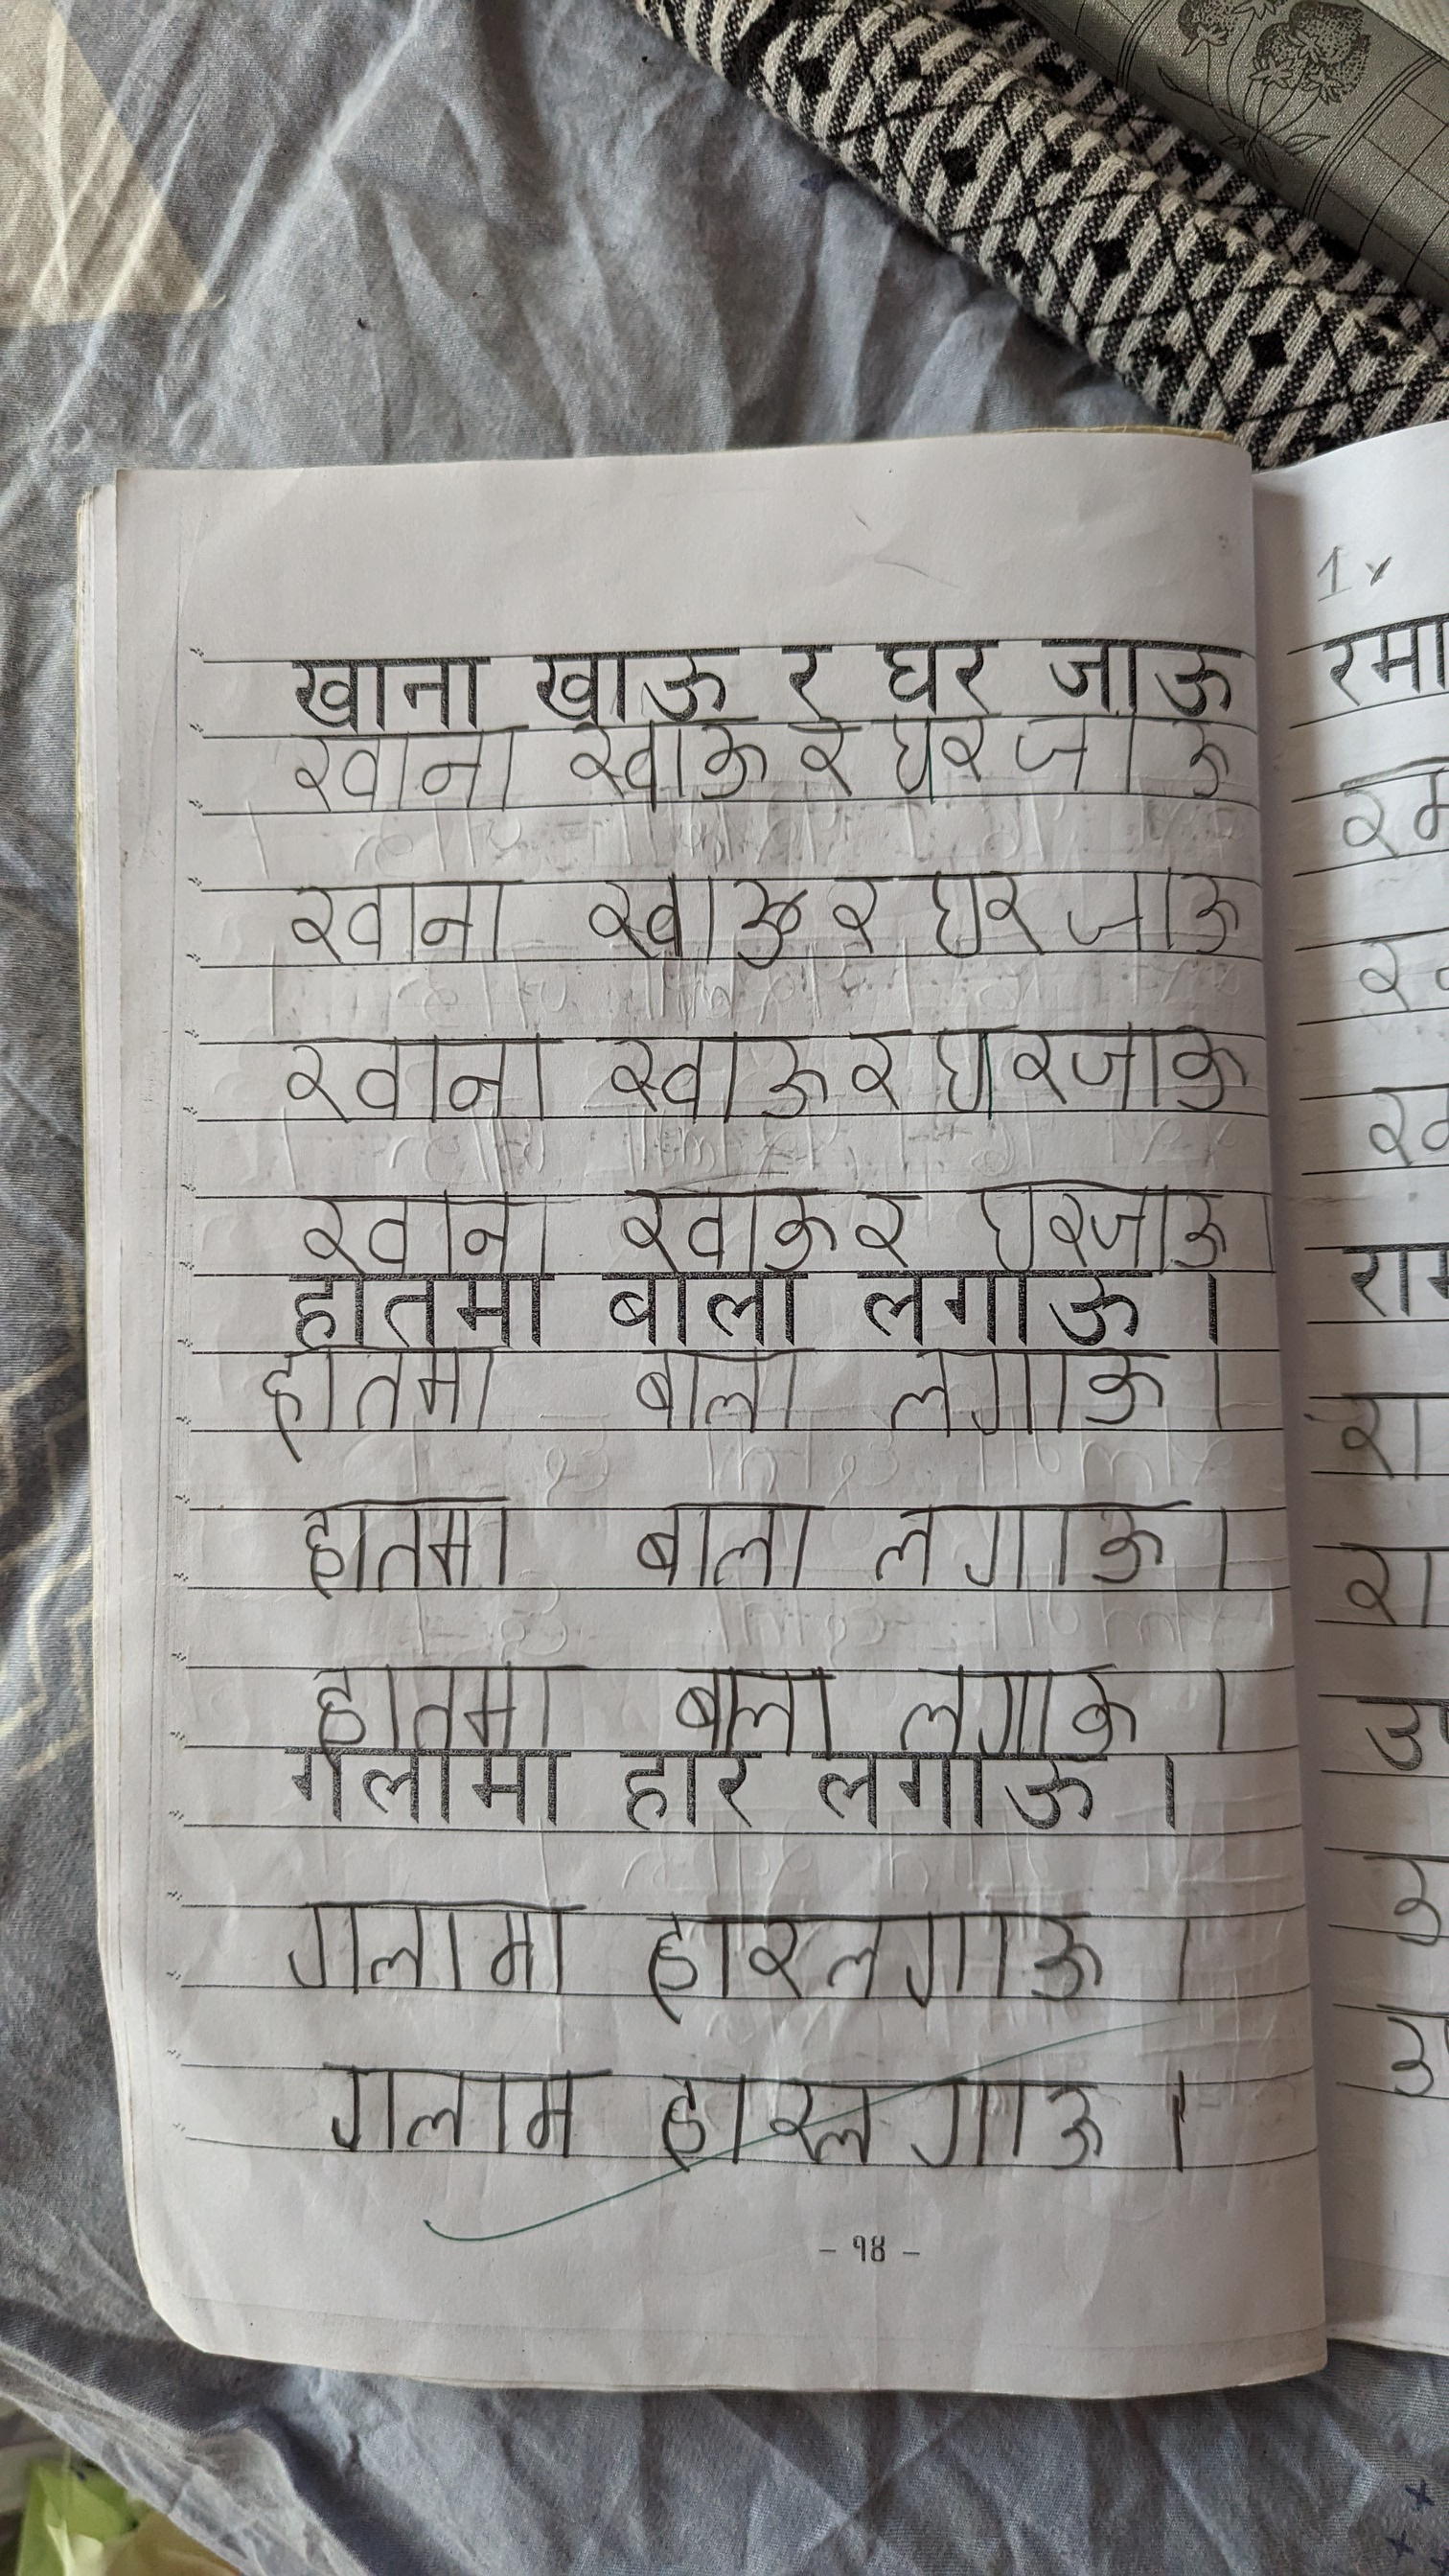text: (642, 1902, 1109, 2028), (655, 2066, 1111, 2181), (863, 1484, 1173, 1596), (281, 1891, 589, 2003), (310, 2054, 596, 2169), (925, 1021, 1249, 1118), (257, 1346, 510, 1461), (881, 1343, 1169, 1444), (964, 1168, 1231, 1276), (274, 1031, 561, 1127), (294, 1490, 522, 1608), (301, 1660, 559, 1759), (899, 1661, 1145, 1762), (580, 869, 814, 975), (285, 1185, 556, 1274), (593, 1028, 832, 1127), (1008, 713, 1235, 810), (616, 1180, 842, 1277), (283, 729, 524, 816), (287, 876, 513, 968), (630, 1493, 824, 1592), (559, 718, 771, 809), (1063, 860, 1247, 962), (623, 1341, 807, 1442), (672, 1663, 835, 1755), (915, 858, 1049, 962), (876, 711, 991, 809), (851, 1175, 924, 1272), (847, 1024, 915, 1120), (824, 867, 890, 964), (789, 718, 865, 801)
